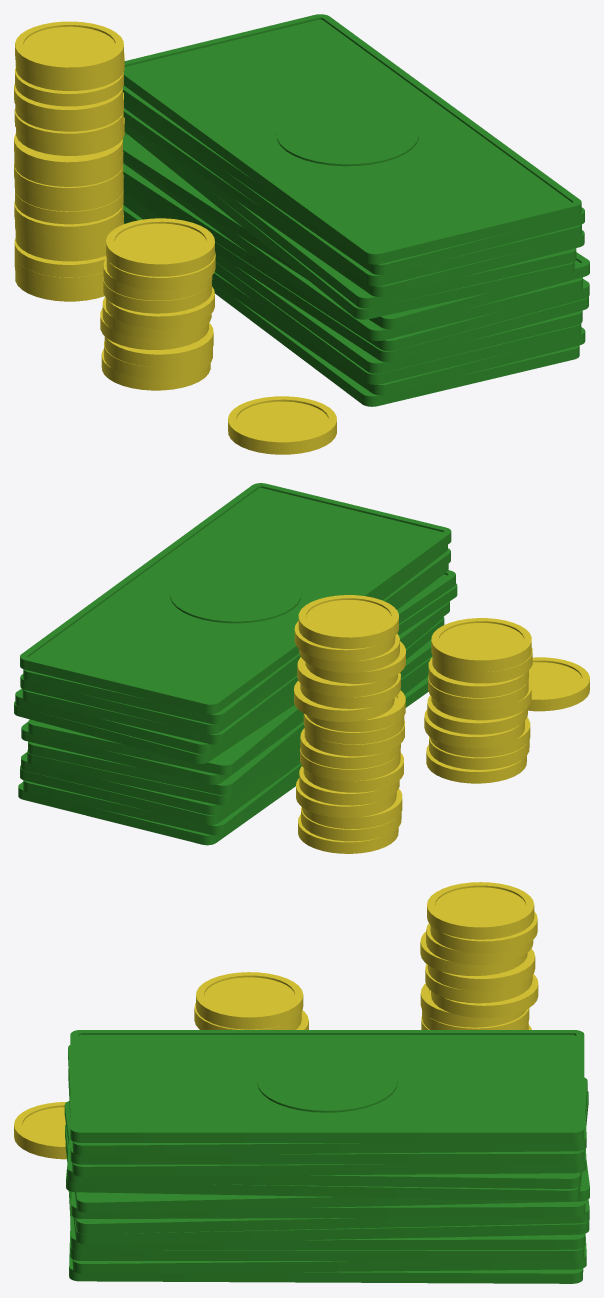
The model's file is money-model.glb.
3 renders of one model, top to bottom at view 1: azimuth 30°, elevation 25°; view 2: azimuth 150°, elevation 25°; view 3: azimuth 270°, elevation 25°, orthographic. The views are drawn at different scales.
Visible parts, largest first — view 1: Money_0; view 2: Money_0; view 3: Money_0.
Part boxes in pixels (x1,y1,x2,y2): Money_0: (14,14,589,454); Money_0: (14,483,589,853); Money_0: (14,882,589,1283).
Bounding box in the file's own units: 1.23 × 0.6989 × 1.58.
